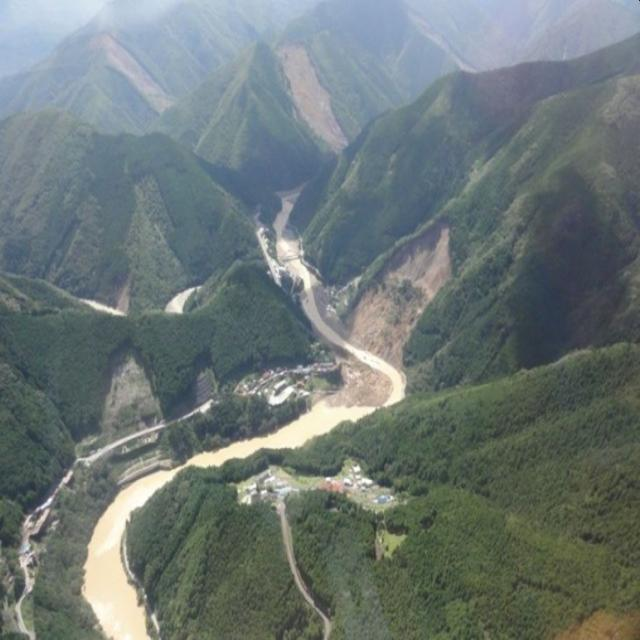Debris-flow: (350, 226, 450, 366), (274, 43, 348, 153), (101, 35, 172, 112), (565, 612, 640, 639), (256, 215, 280, 280)
